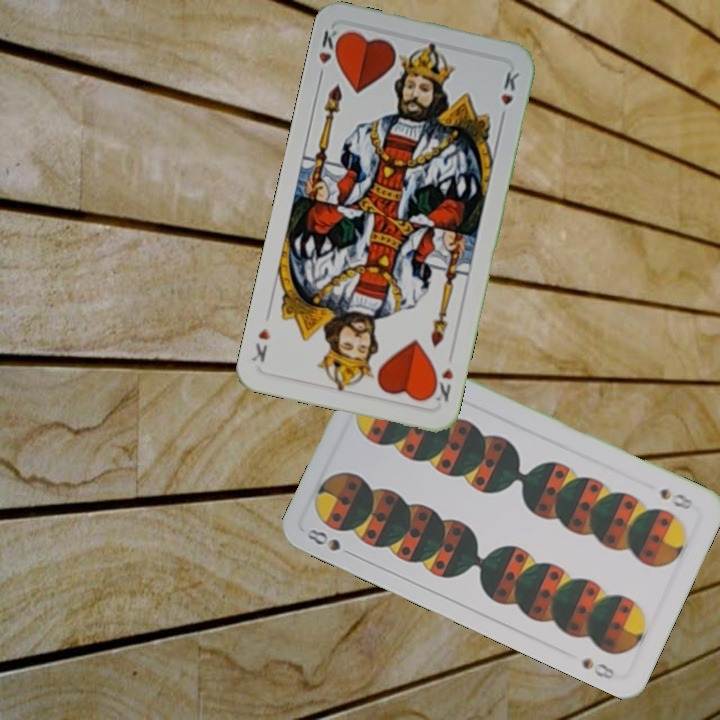HK: (314, 26, 346, 67), (426, 364, 456, 405)
S8: (302, 525, 358, 560), (656, 484, 696, 513)
